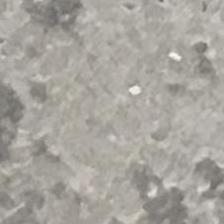Non_Crack: (17, 34, 223, 224)
